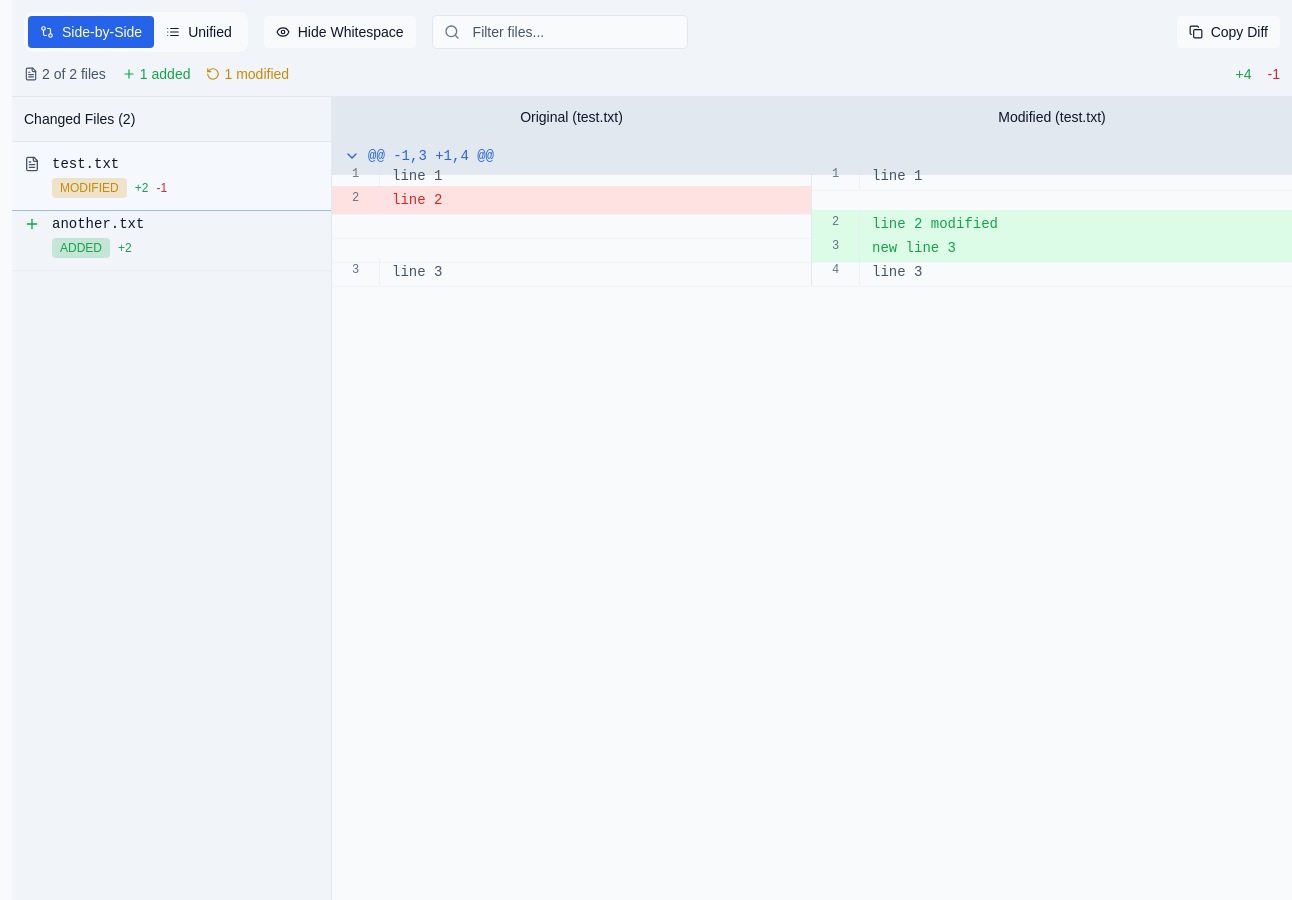
it: DiffViewer › should switch between view modes
The image size is (1292, 900).
Expected: the element with test id "side-by-side-diff" is shown, [332,138,1291,287]
Note: Switch to unified mode
Click the button "Unified". click: (199, 32)
box: [154,16,244,48]
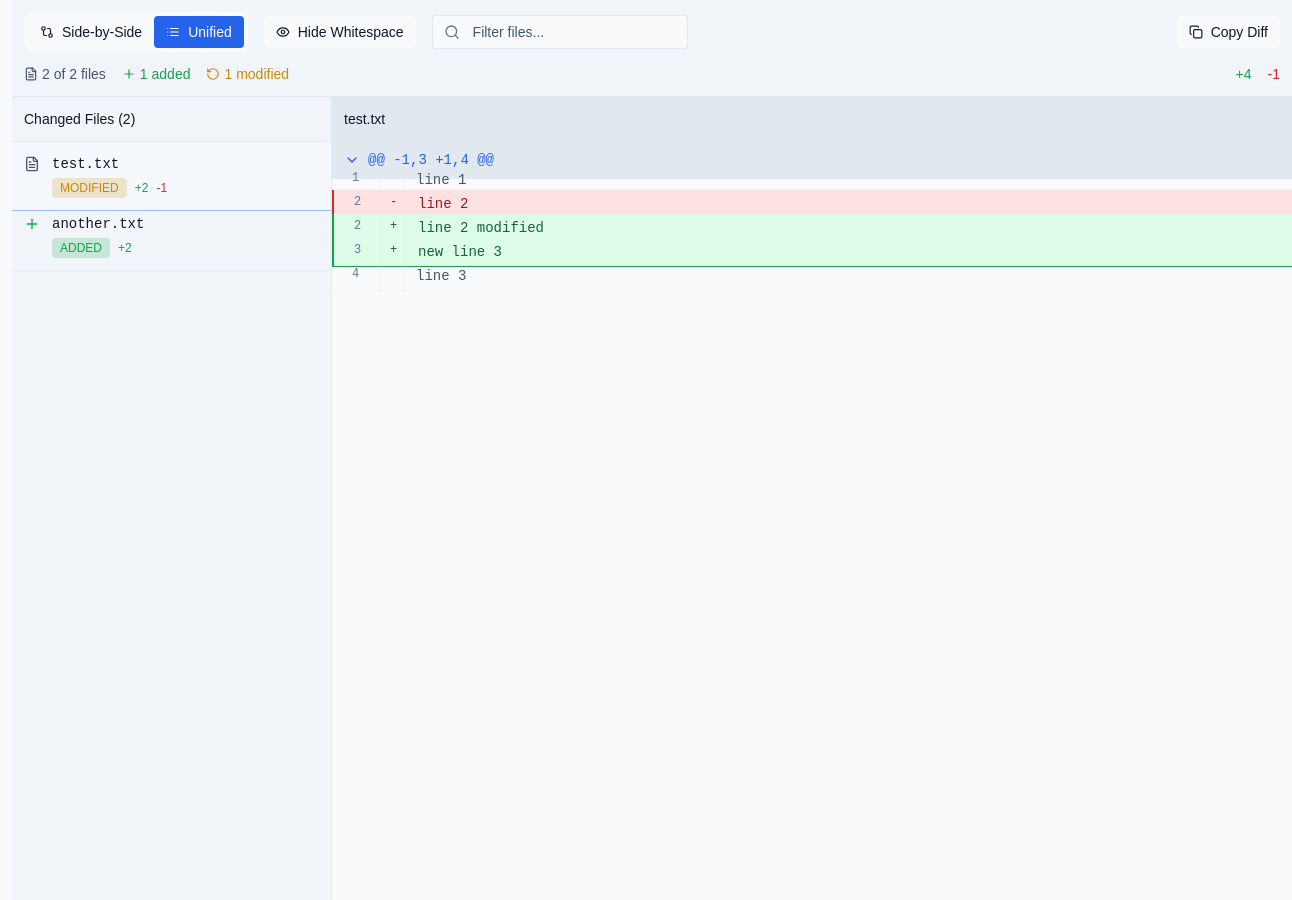
Now the element with test id "unified-diff" is shown, box [332,142,1291,291]
